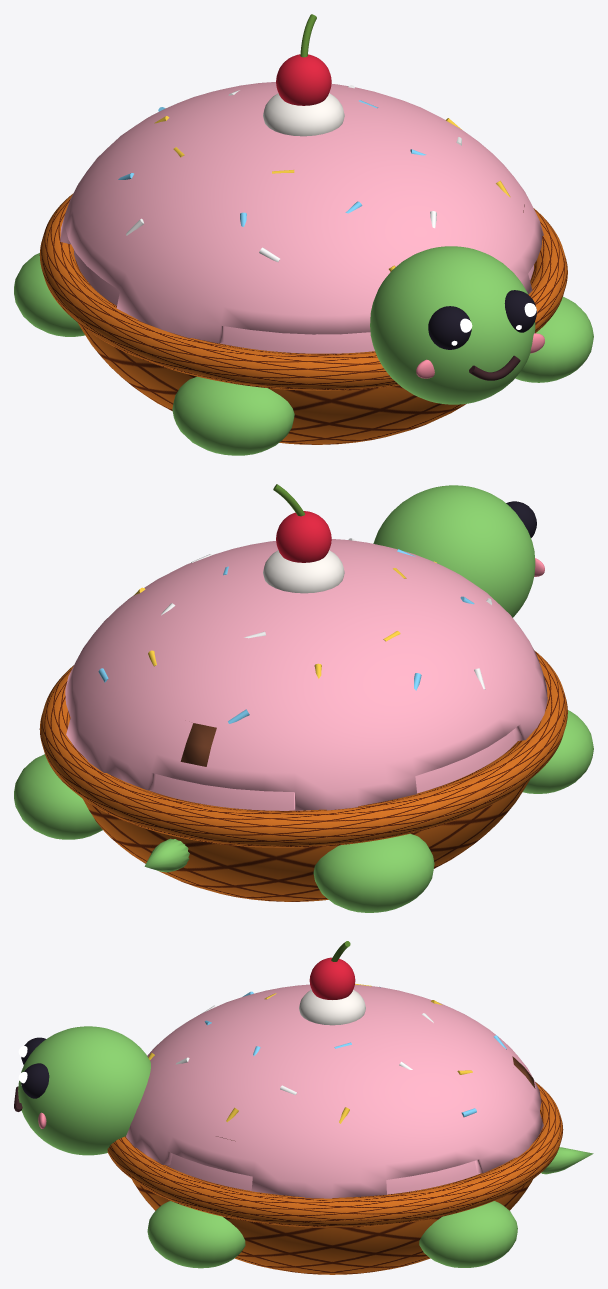
The model's file is pilot_skilpadde_is.glb.
3 views of the same model, one above another, from view 1: azimuth 30°, elevation 25°; view 2: azimuth 150°, elevation 25°; view 3: azimuth 270°, elevation 25° (orthographic). The views are drawn at different scales.
Parts seen in each view (by area): view 1: kropp, hode, bein_vf, bein_hf, bein_vb; view 2: kropp, hode, bein_vb, bein_hb, bein_vf, hale; view 3: kropp, hode, bein_hb, bein_hf, hale.
Boxes of the visible parts, x1,y1,x2,y2 form: kropp: [39, 14, 567, 444]; hode: [370, 246, 544, 404]; bein_vf: [172, 376, 294, 455]; bein_hf: [515, 296, 593, 382]; bein_vb: [14, 253, 84, 336]; kropp: [39, 484, 567, 901]; hode: [373, 485, 544, 617]; bein_vb: [313, 833, 434, 912]; bein_hb: [14, 754, 102, 839]; bein_vf: [523, 710, 593, 793]; hale: [144, 838, 189, 872]; kropp: [107, 941, 563, 1274]; hode: [14, 1026, 150, 1155]; bein_hb: [419, 1201, 517, 1267]; bein_hf: [147, 1201, 245, 1268]; hale: [541, 1147, 593, 1174].
Bounding box in the file's own units: 1.39 × 1.14 × 1.9.
14 materials, 1 textured.
